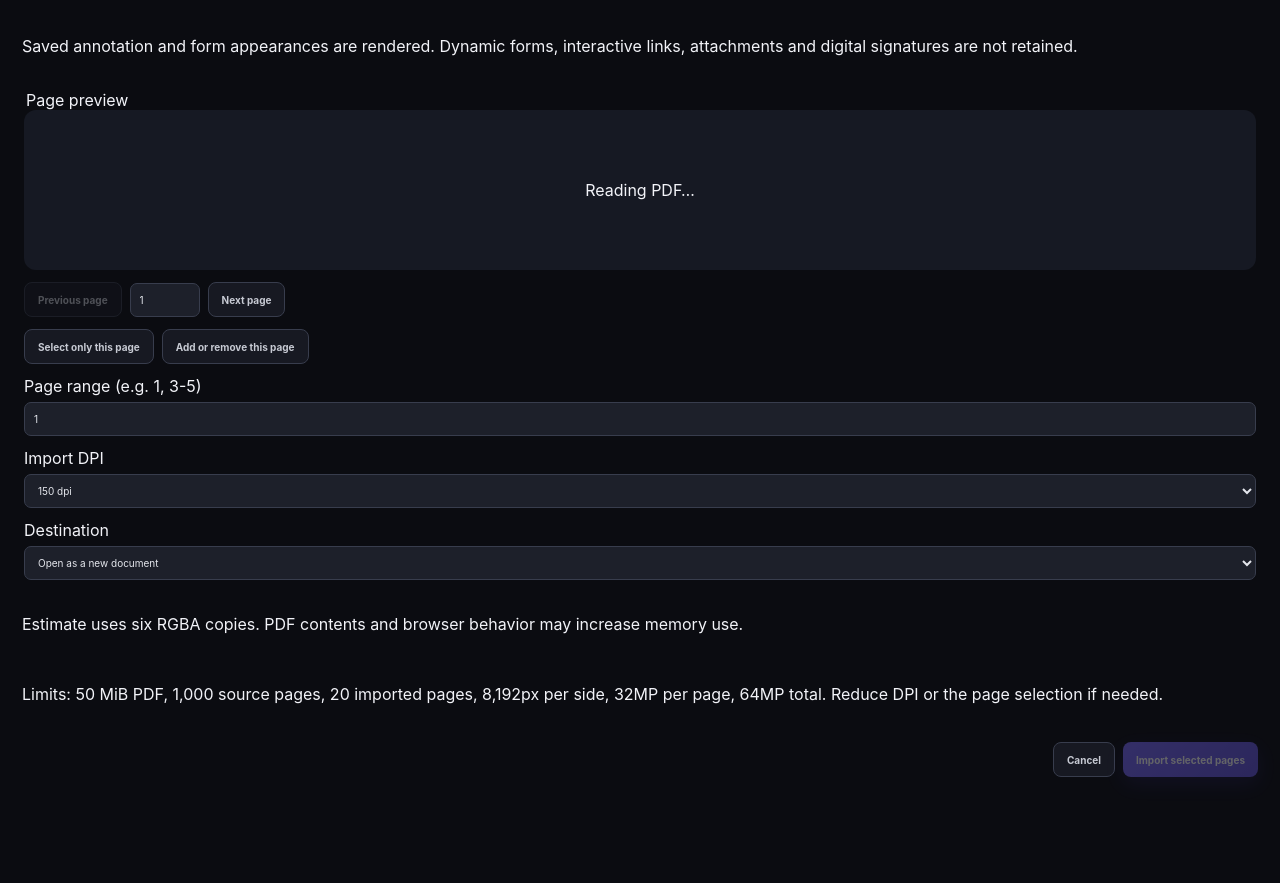
Test case: PDF import dialog › does not commit any page when a later render fails
Replace the text in the field labelled "Page range (e.g. 1, 3-5)" with "1-2" at point(640, 419), box [24,402,1256,436]
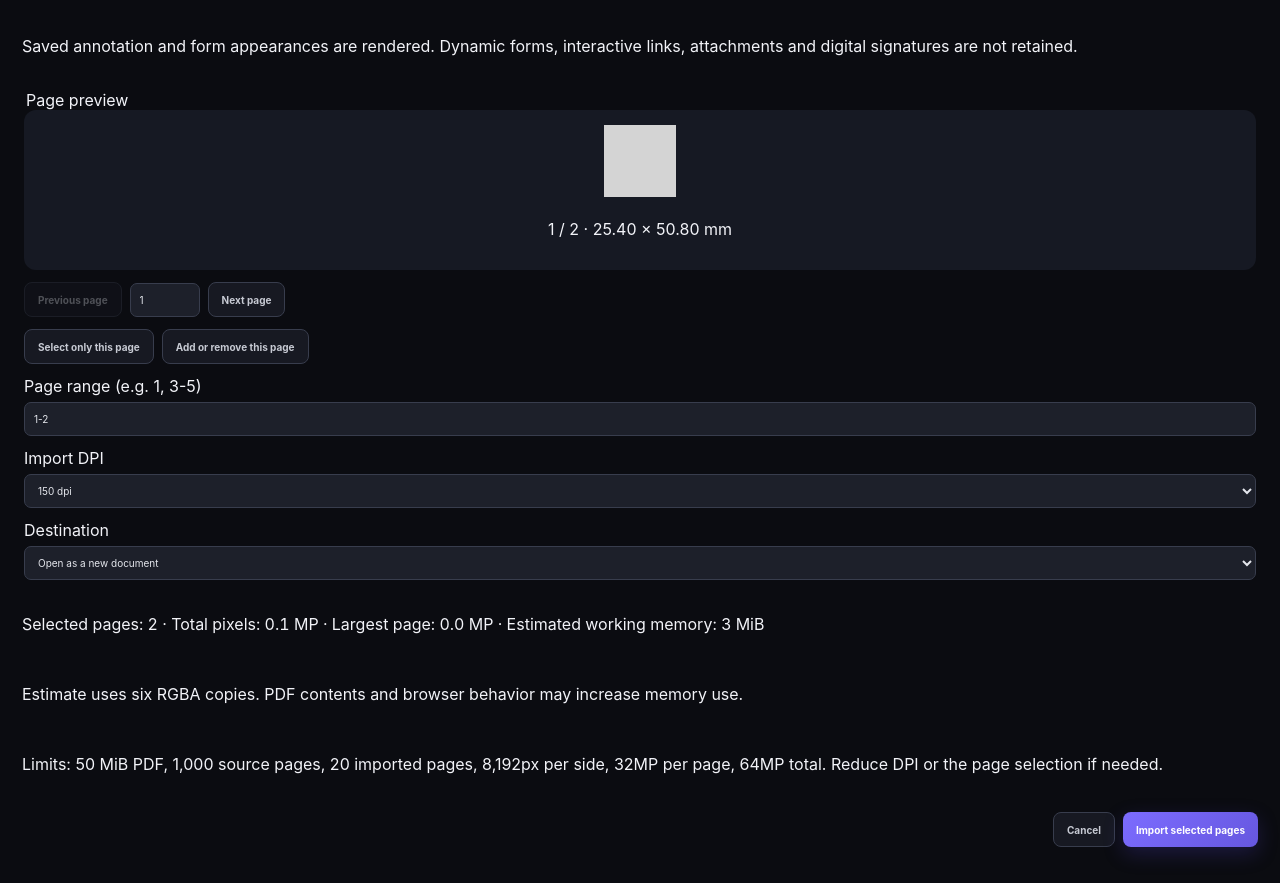
Now the button "Import selected pages" is enabled
Click the button "Import selected pages" at point(1190, 830), box [1123,812,1258,847]
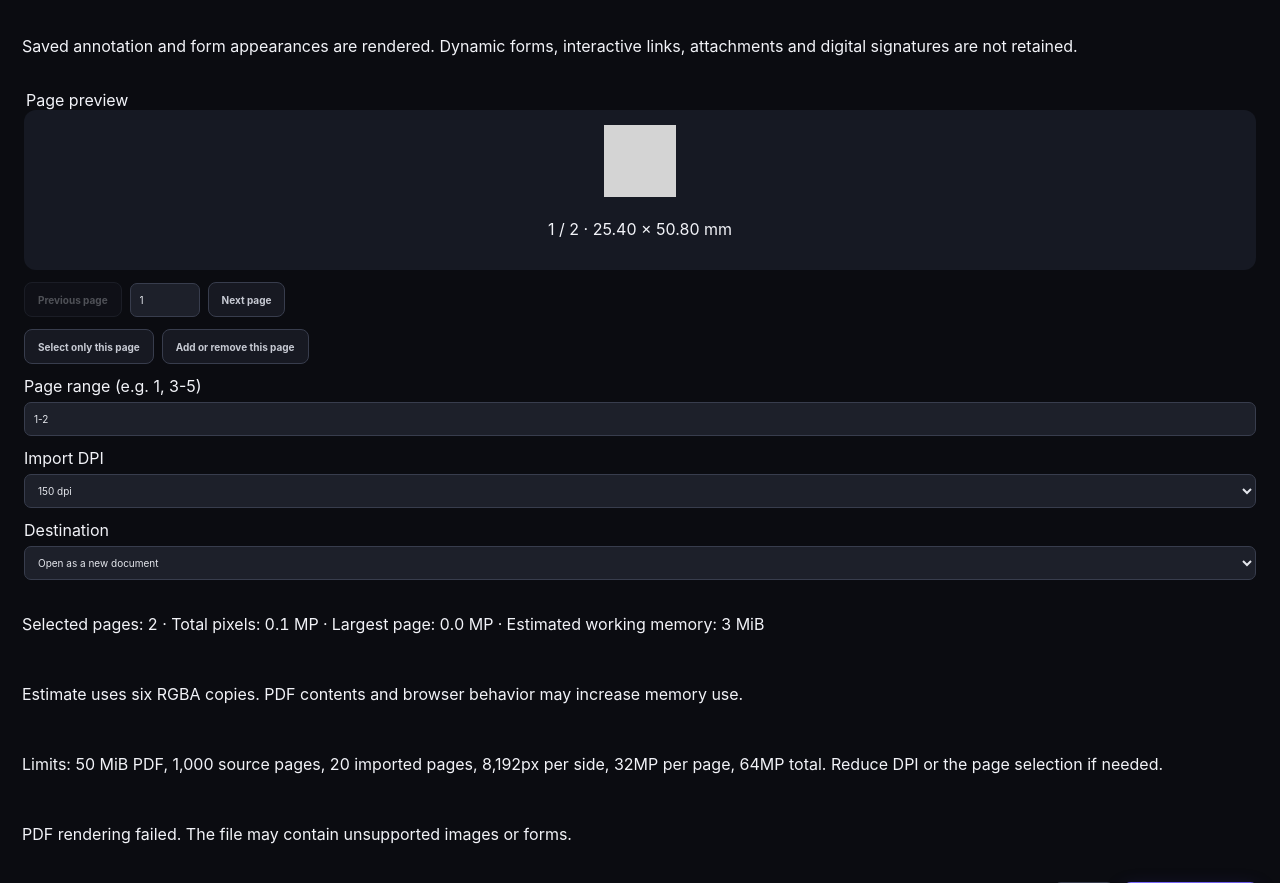
Now the message "PDF rendering failed. The file may contain unsupported images or forms." is shown, box [22,824,572,844]
